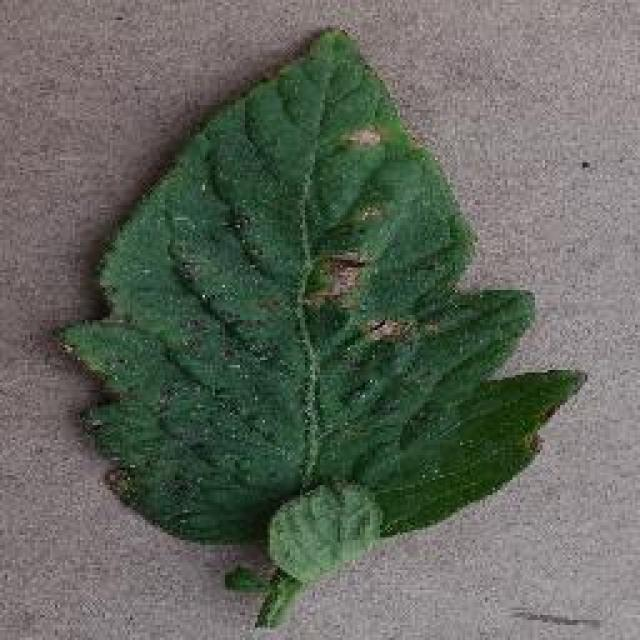Tomato___Bacterial_spot: (47, 24, 599, 632)
